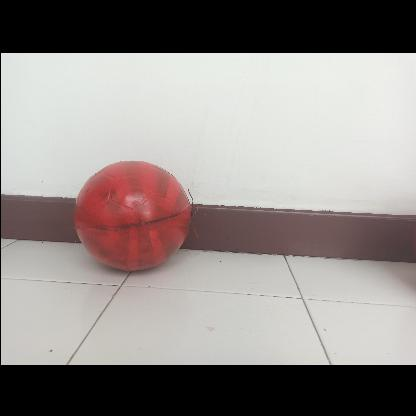red_ball: (74, 155, 186, 268)
